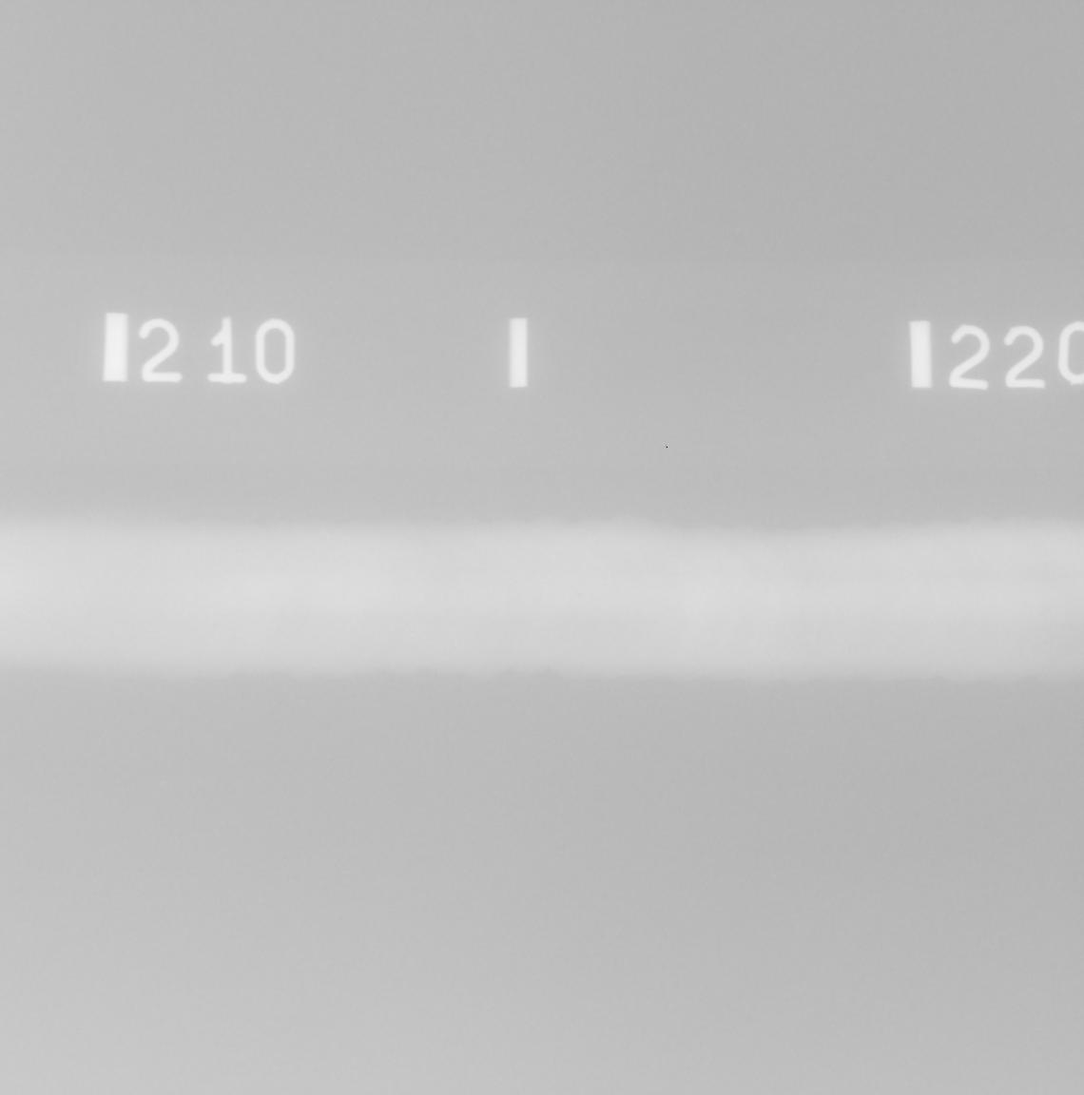Pore/Porosity: (575, 592, 582, 598), (212, 623, 217, 627)
